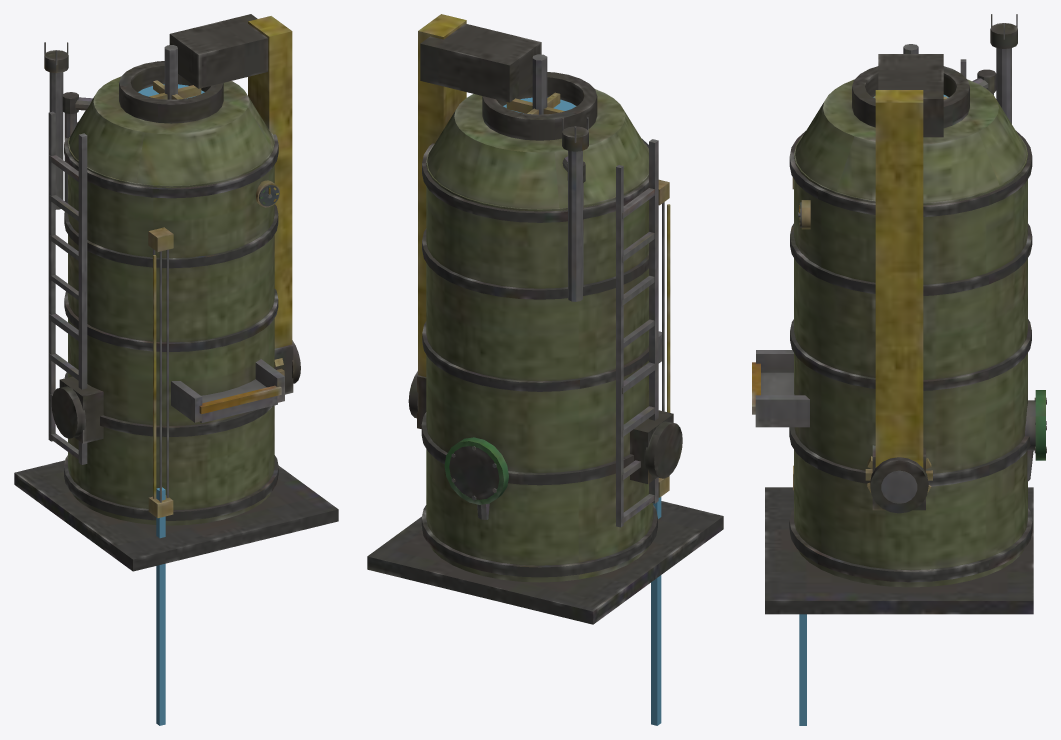
The model's file is feBiodigesterBig.glb.
The picture shows the model from 3 angles, left to right: view 1: azimuth 30°, elevation 25°; view 2: azimuth 150°, elevation 25°; view 3: azimuth 270°, elevation 25°; orthographic projection. The views are drawn at different scales.
Visible parts, largest first — view 1: feBiodigesterBig_Base, FeSurface_r0.95_Level, FeSpin_DriveShaft, FeSpin_x0.5_Stirrer; view 2: feBiodigesterBig_Base, FeSpin_DriveShaft, FeSurface_r0.95_Level, FeSpin_x0.5_Stirrer; view 3: feBiodigesterBig_Base, FeSpin_DriveShaft, FeSurface_r0.95_Level.
Boxes of the visible parts, <box> form: feBiodigesterBig_Base: <box>14,14,338,571</box>; FeSurface_r0.95_Level: <box>156,487,165,725</box>; FeSpin_DriveShaft: <box>51,340,300,438</box>; FeSpin_x0.5_Stirrer: <box>149,45,201,99</box>; feBiodigesterBig_Base: <box>367,14,723,624</box>; FeSpin_DriveShaft: <box>408,371,682,478</box>; FeSurface_r0.95_Level: <box>651,497,661,725</box>; FeSpin_x0.5_Stirrer: <box>506,54,564,114</box>; feBiodigesterBig_Base: <box>752,14,1046,614</box>; FeSpin_DriveShaft: <box>865,456,932,513</box>; FeSurface_r0.95_Level: <box>799,614,806,725</box>.
Size of the model in its own units: 1 by 2.69 by 1.01.
Materials: 2 (1 with a texture image).
